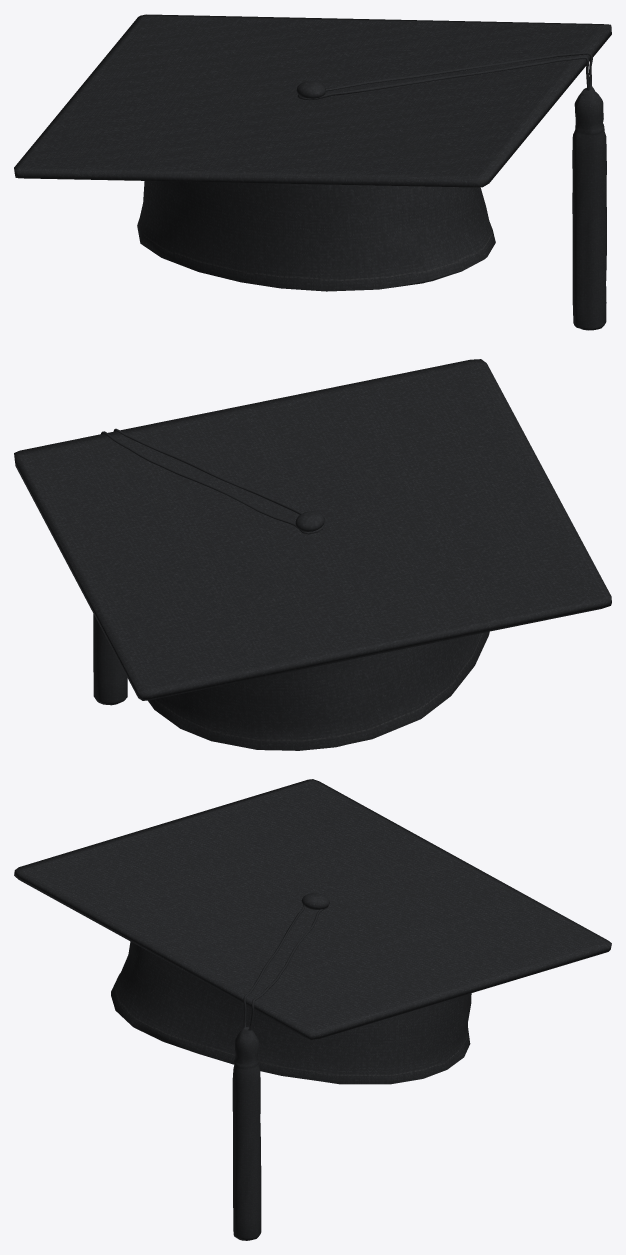
The model's file is cap.fbx.
3 views of the same model, one above another, from view 1: azimuth 30°, elevation 25°; view 2: azimuth 150°, elevation 25°; view 3: azimuth 270°, elevation 25° (orthographic). The views are drawn at different scales.
Parts seen in each view (by area): view 1: AcademicCap; view 2: AcademicCap; view 3: AcademicCap.
Boxes of the visible parts, x1,y1,x2,y2 form: AcademicCap: [14, 14, 611, 330]; AcademicCap: [14, 359, 611, 750]; AcademicCap: [14, 779, 611, 1240].
Size of the model in its own units: 38.23 by 18.48 by 37.9.
